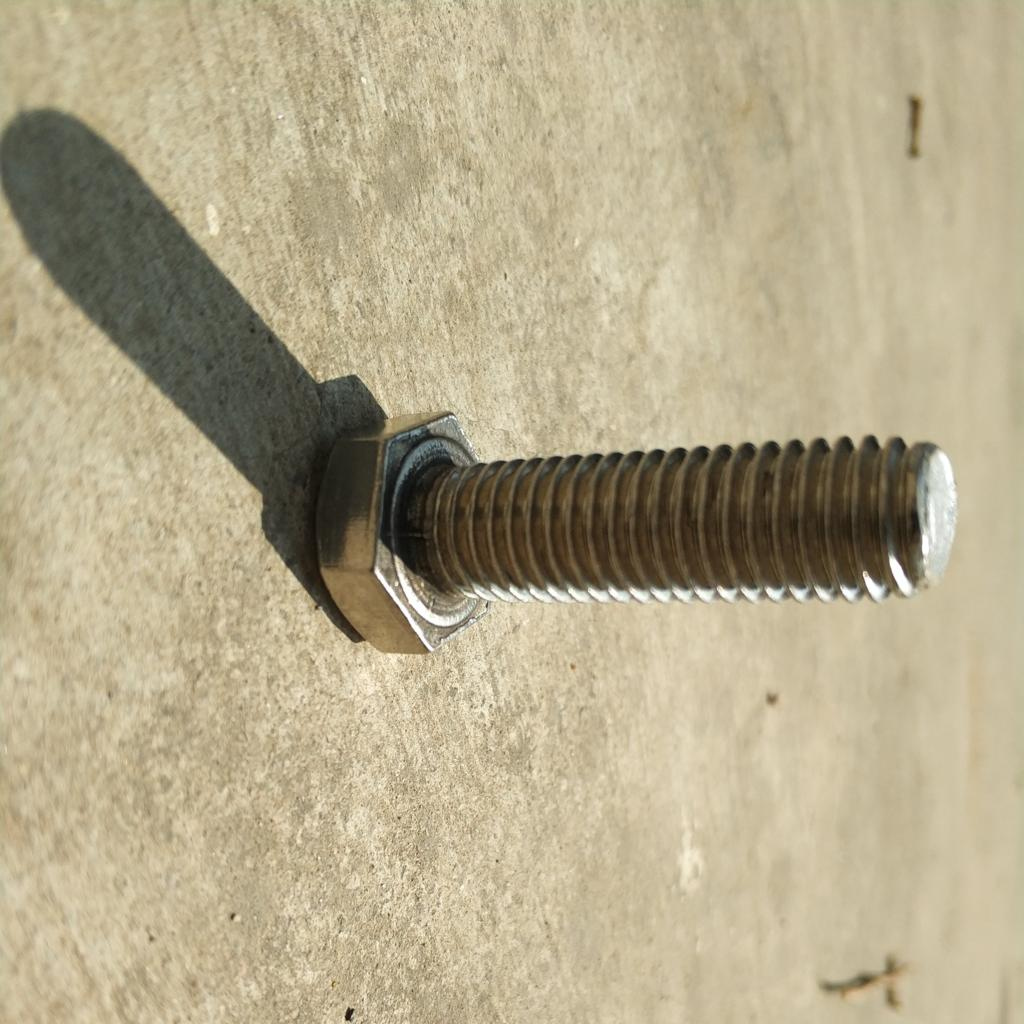screwtype2silver: (312, 395, 973, 675)
